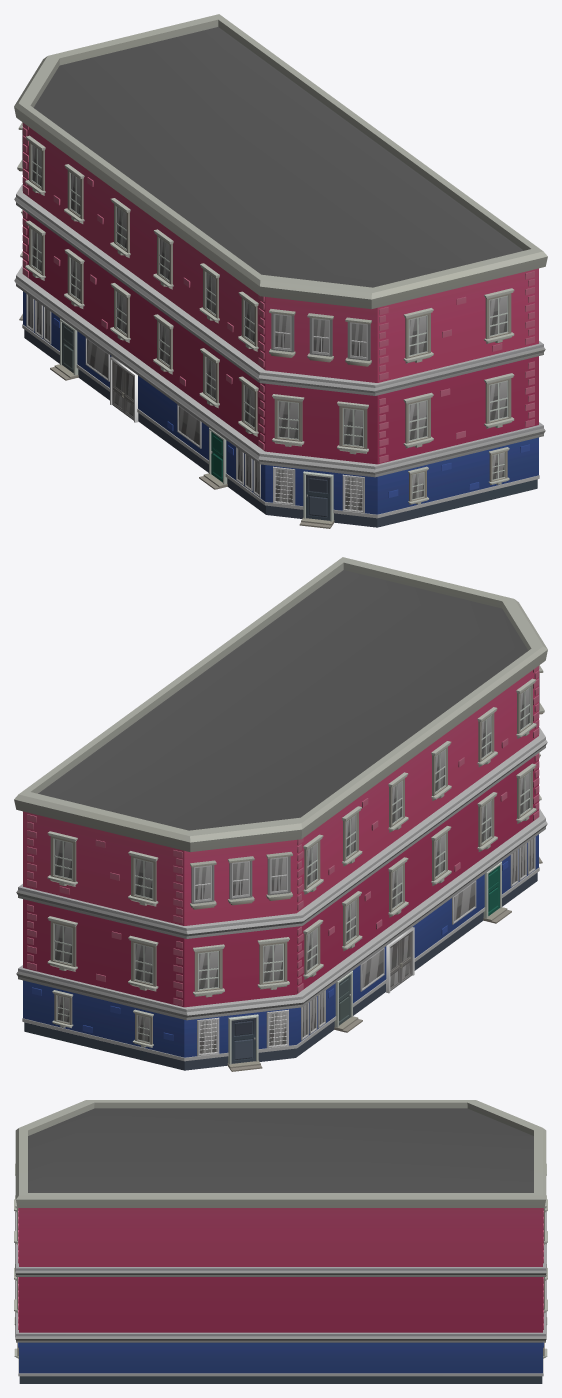
File: Building_25_7_C.fbx
The picture shows the model from 3 angles, top to bottom: view 1: azimuth 30°, elevation 25°; view 2: azimuth 150°, elevation 25°; view 3: azimuth 270°, elevation 25°; orthographic projection. The views are drawn at different scales.
Visible parts, largest first — view 1: Building_25_7_C; view 2: Building_25_7_C; view 3: Building_25_7_C.
Part boxes in pixels (x1,y1,x2,y2): Building_25_7_C: (14, 14, 547, 528); Building_25_7_C: (14, 557, 547, 1071); Building_25_7_C: (14, 1100, 547, 1383).
Bounding box in the file's own units: 1291 × 1159 × 2941.
